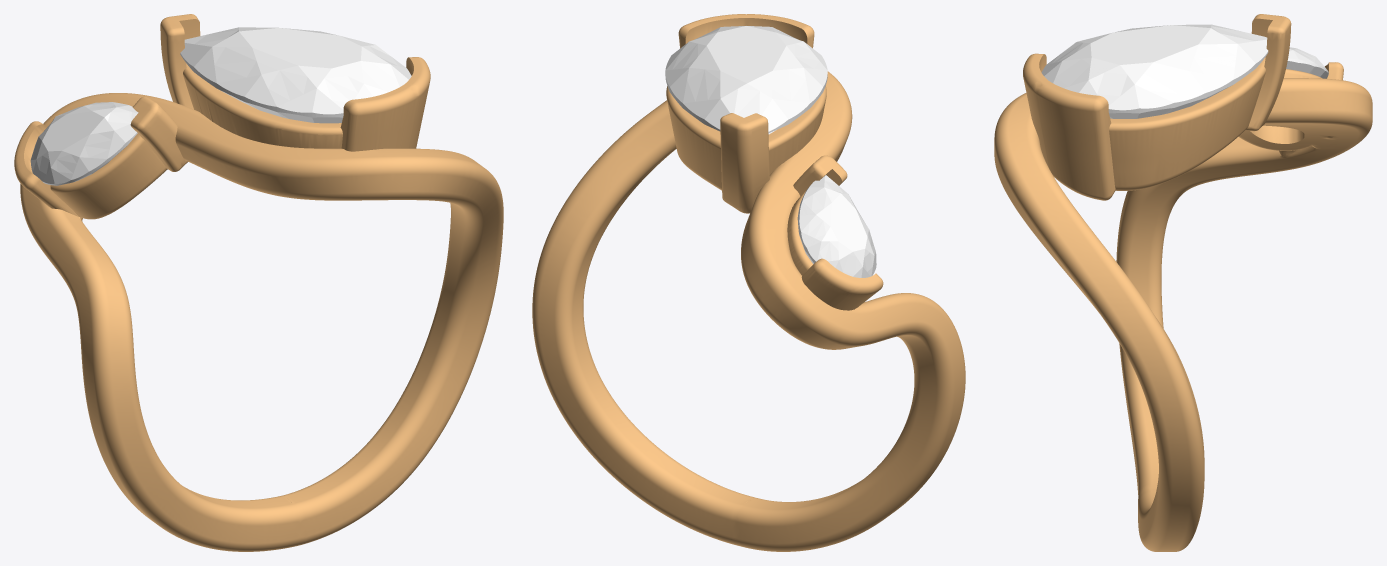
3 renders of one model, left to right at view 1: azimuth 30°, elevation 25°; view 2: azimuth 150°, elevation 25°; view 3: azimuth 270°, elevation 25°, orthographic. The views are drawn at different scales.
Size of the model in its own units: 2.33 by 2.66 by 1.86.
